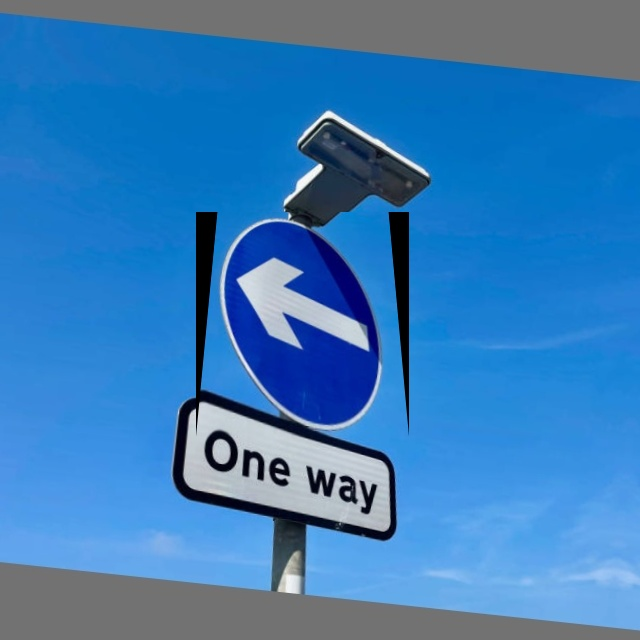Compulsory_Turn_Left: (196, 212, 409, 437)
